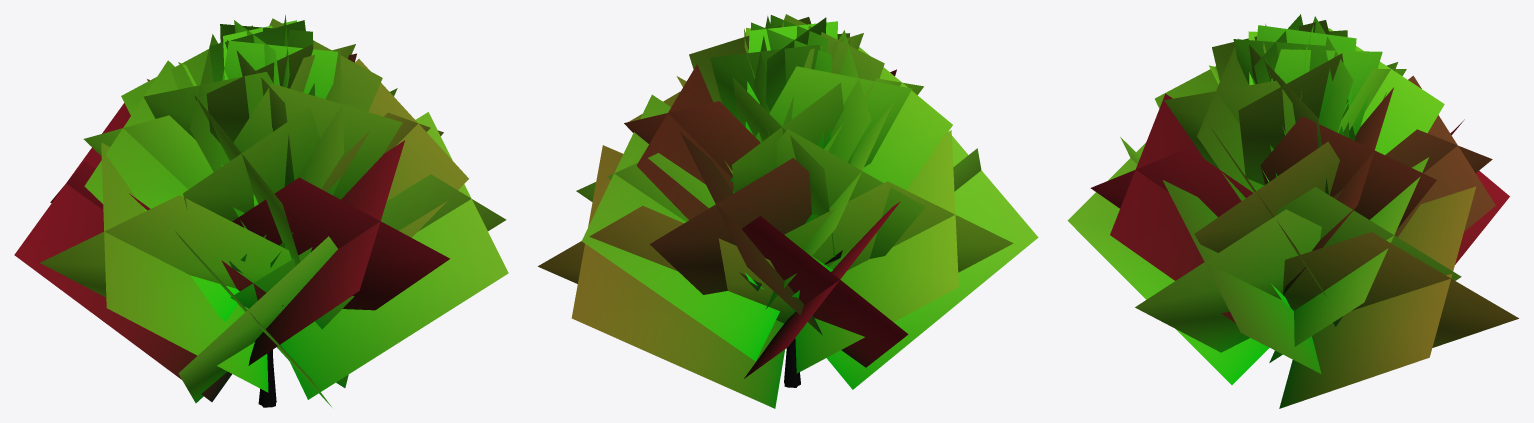
File: Tree_2_1.fbx
3 renders of one model, left to right at view 1: azimuth 30°, elevation 25°; view 2: azimuth 150°, elevation 25°; view 3: azimuth 270°, elevation 25°, orthographic. The views are drawn at different scales.
Parts seen in each view (by area): view 1: Tree_2_1; view 2: Tree_2_1; view 3: Tree_2_1.
Boxes of the visible parts, left/top/right/bottom form: Tree_2_1: left=14, top=15, right=508, bottom=407; Tree_2_1: left=537, top=14, right=1038, bottom=408; Tree_2_1: left=1067, top=14, right=1518, bottom=408.
Bounding box in the file's own units: 4179 × 3638 × 4215.
